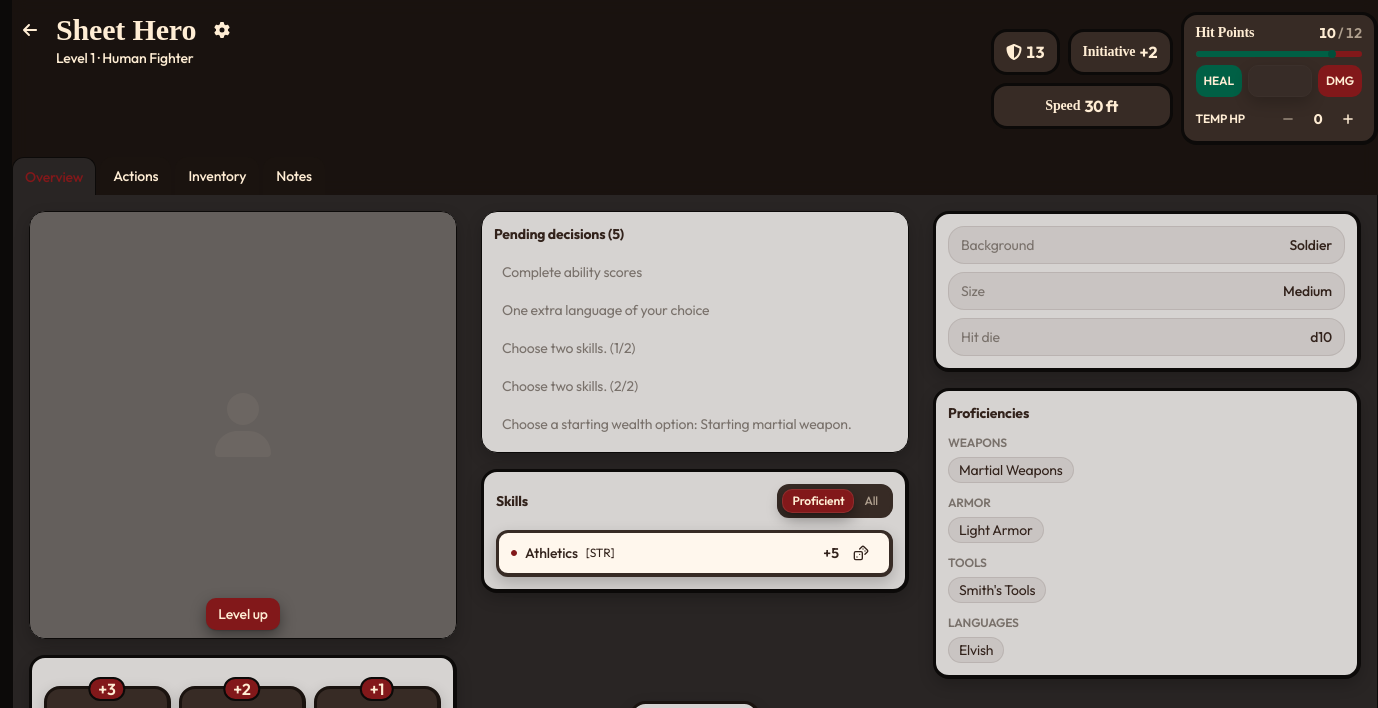
it: PlayerSheet › shows all skills when the skills toggle is enabled
This screenshot has width=1378, height=708.
Click the radio button labelled "All": (871, 501) [854, 489, 888, 513]
(page scrolled)
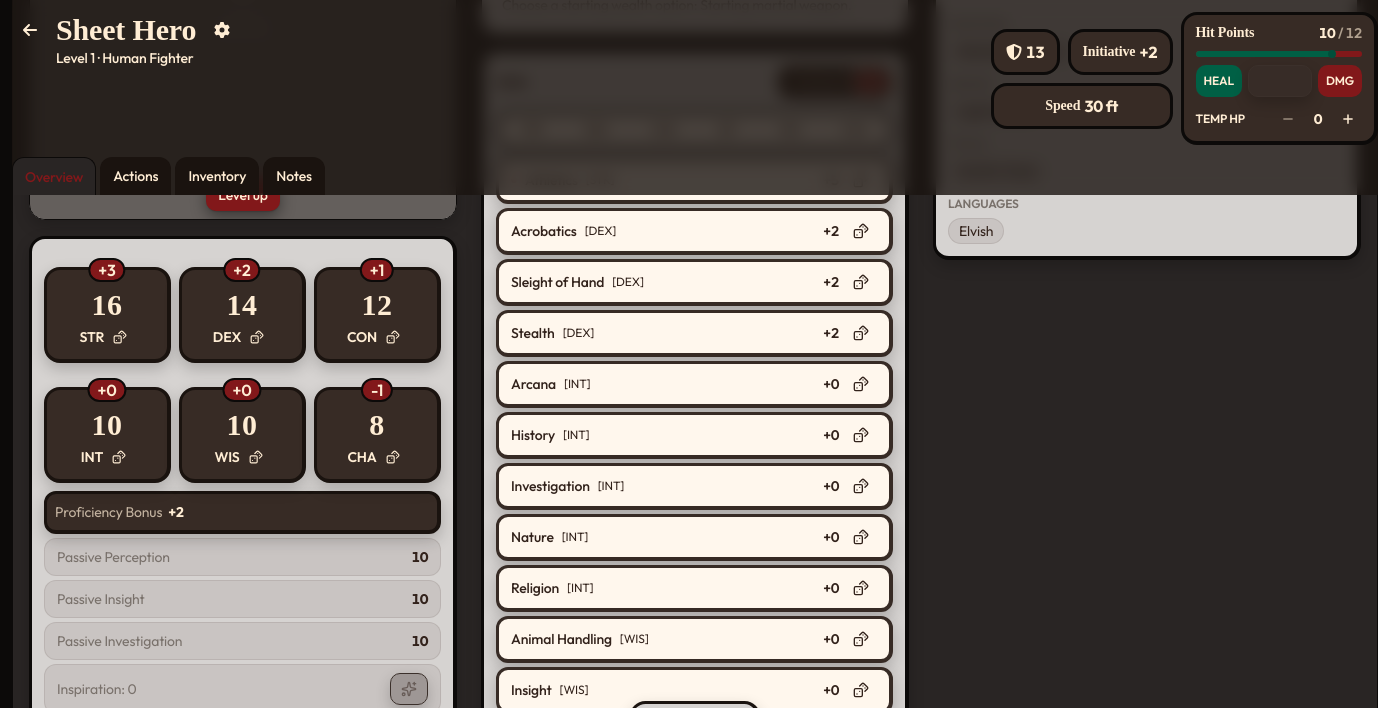
Check: the text "Stealth" is shown, box [511, 323, 555, 343]
Check: the text "Arcana" is shown, box [511, 374, 556, 394]
